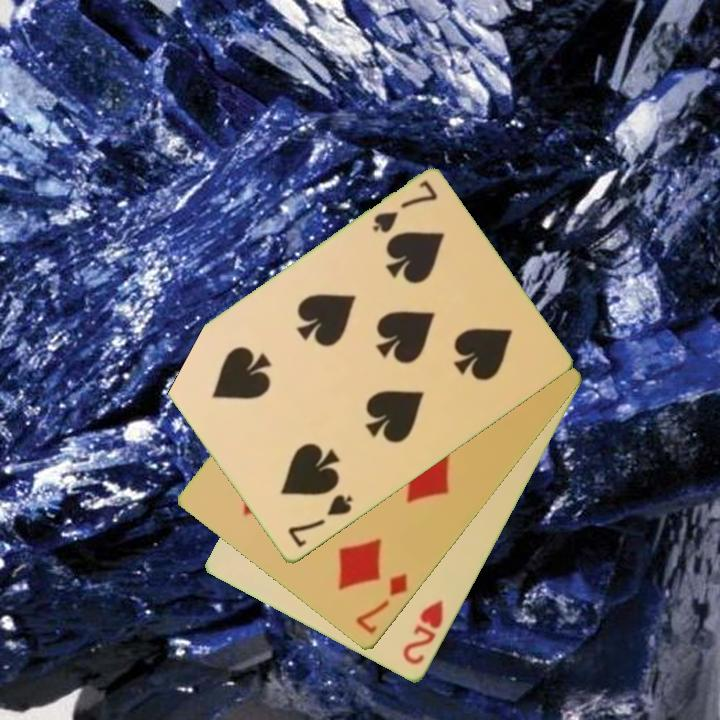2h: (399, 597, 447, 669)
7d: (352, 570, 411, 638)
7s: (368, 177, 441, 237), (284, 491, 356, 551)
